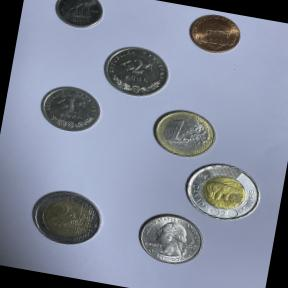coin: (174, 156, 268, 228), (23, 182, 109, 254), (96, 39, 176, 104), (130, 207, 208, 272), (144, 102, 222, 163), (182, 6, 246, 61), (49, 0, 108, 35)
